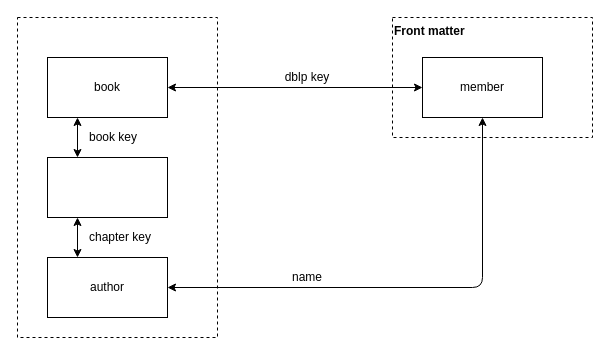
This 610x355 diagram has some shape labels left out. Here are the shapes that lost their labels. From the top down, the box of each, then its label:
(46, 156, 168, 218): chapter
(16, 16, 218, 338): Springer website
